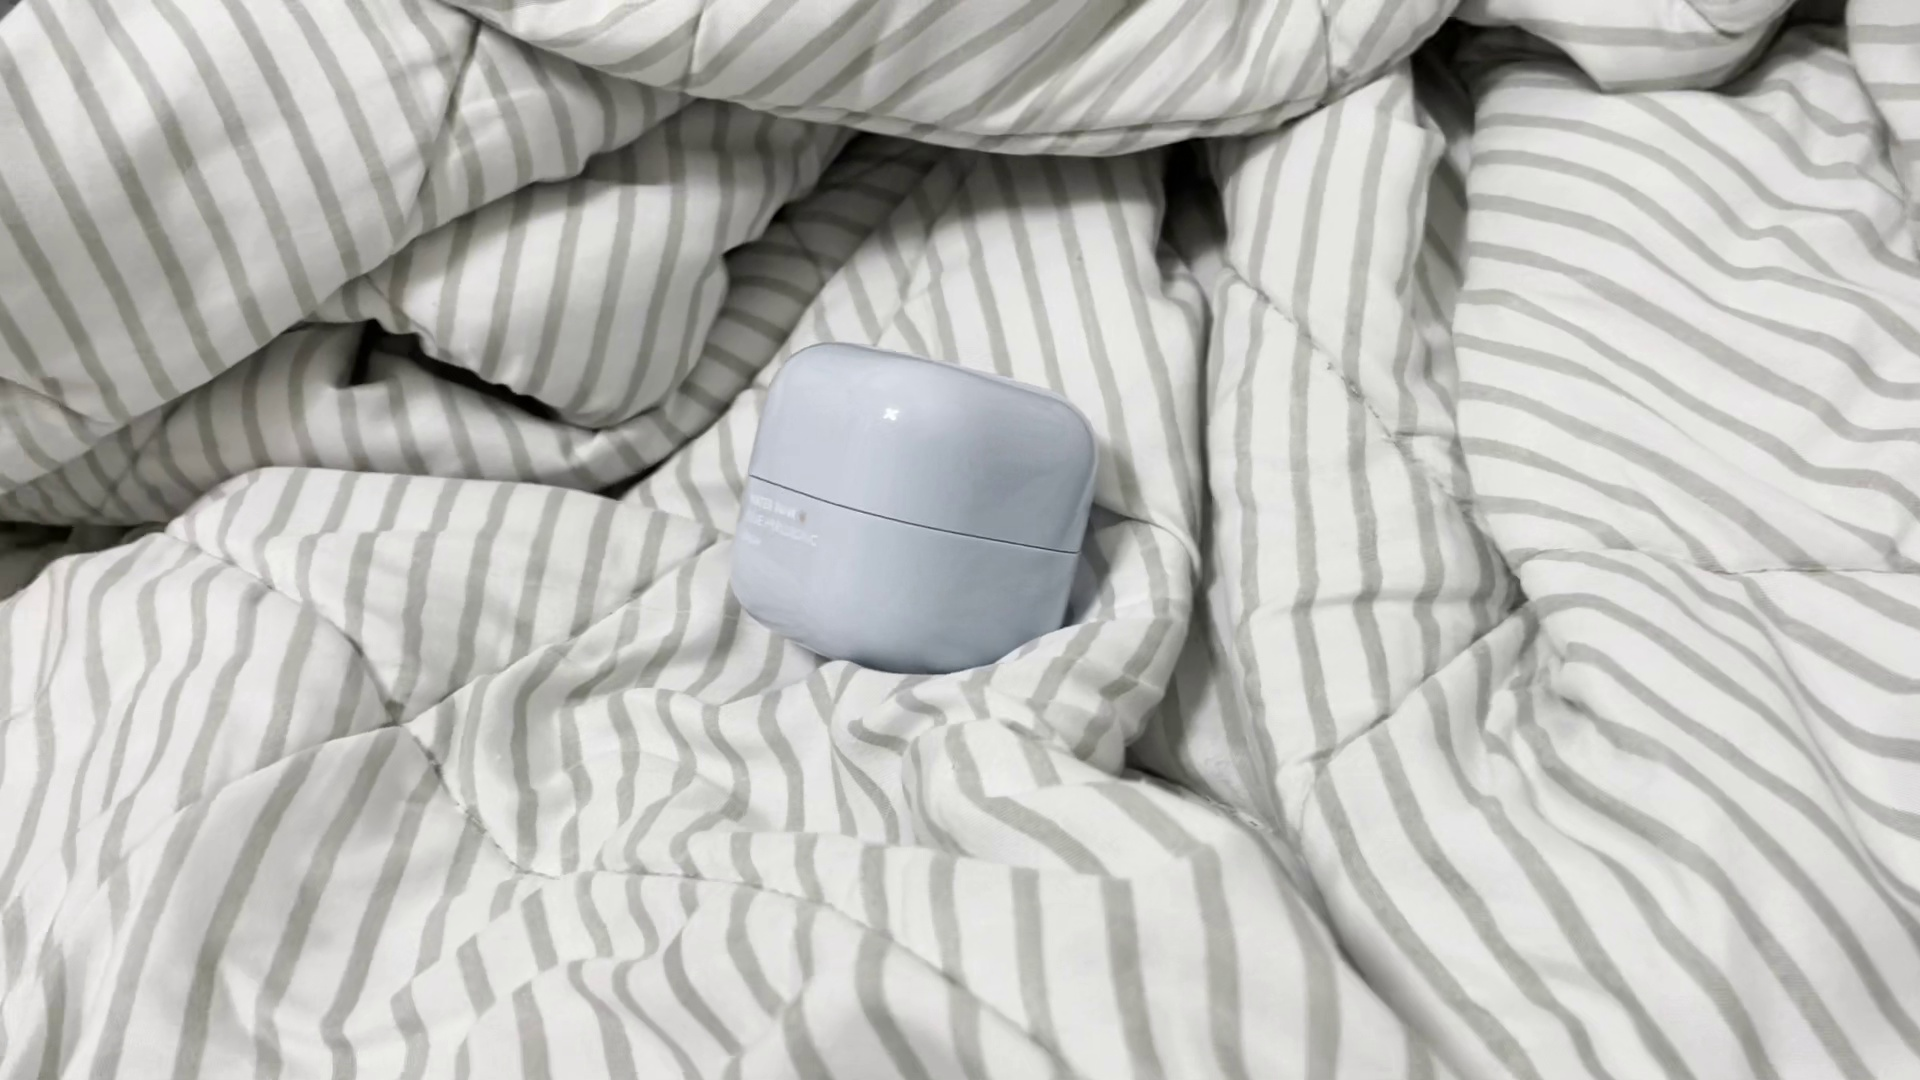cream: (735, 339, 1095, 673)
